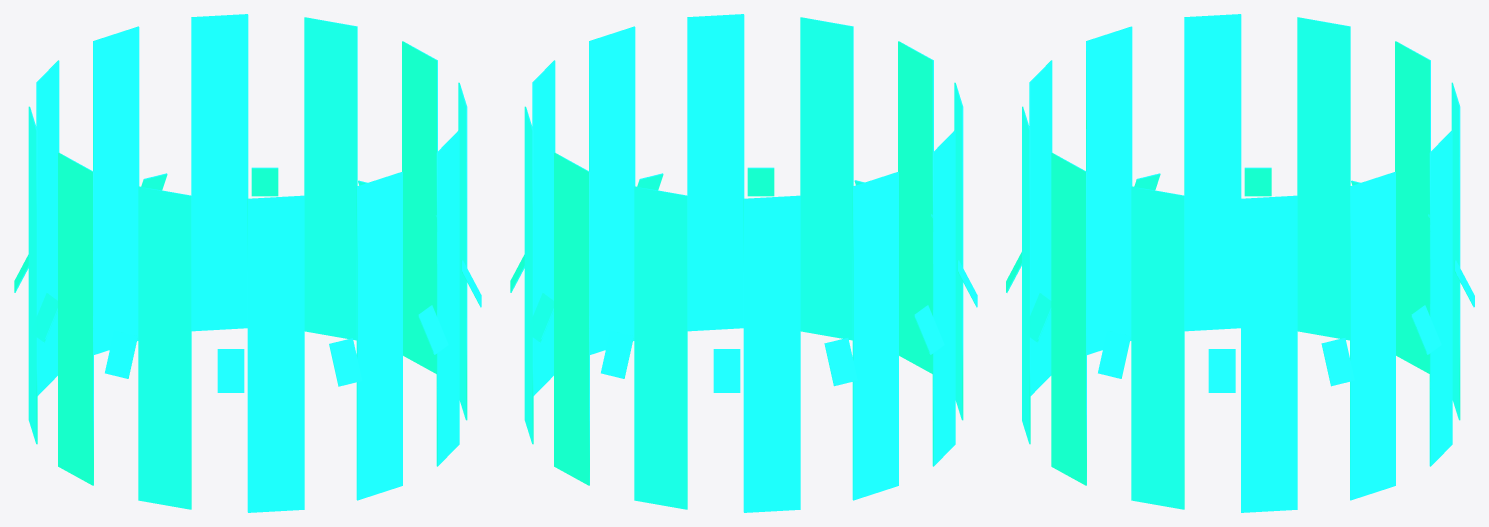
Rendered from DIP43JS.glb.
The picture shows the model from 3 angles, left to right: view 1: azimuth 30°, elevation 25°; view 2: azimuth 150°, elevation 25°; view 3: azimuth 270°, elevation 25°; orthographic projection.
Parts seen in each view (by area): view 1: Geom__210529_AR_withBooks_Sample_Zhaniya.001; view 2: Geom__210529_AR_withBooks_Sample_Zhaniya.001; view 3: Geom__210529_AR_withBooks_Sample_Zhaniya.001.
Boxes of the visible parts, x1=… form: Geom__210529_AR_withBooks_Sample_Zhaniya.001: x1=14, y1=14, x2=481, y2=512; Geom__210529_AR_withBooks_Sample_Zhaniya.001: x1=510, y1=14, x2=977, y2=512; Geom__210529_AR_withBooks_Sample_Zhaniya.001: x1=1006, y1=14, x2=1474, y2=512.
Size of the model in its own units: 6.85 by 5.07 by 6.87.
